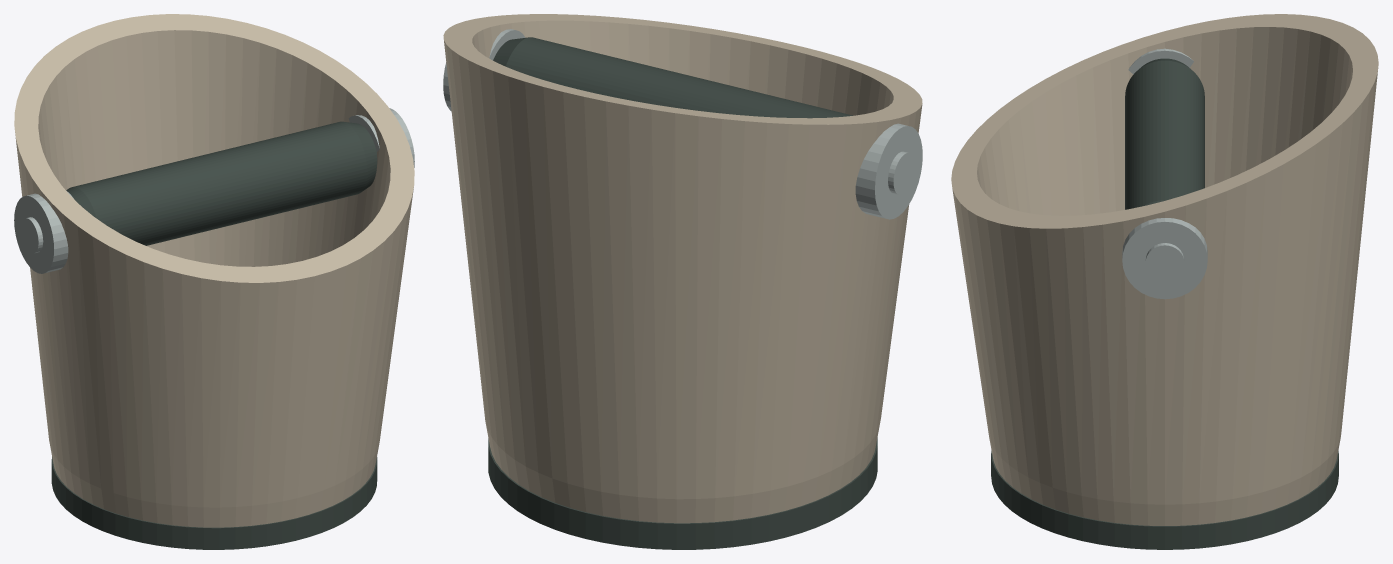
3 renders of one model, left to right at view 1: azimuth 30°, elevation 25°; view 2: azimuth 150°, elevation 25°; view 3: azimuth 270°, elevation 25°, orthographic. The views are drawn at different scales.
Visible parts, largest first — view 1: WholeHighTaperedBinWithTrueSlopingOpenMouthAndFloor, WholeThickPaddedCrossbarSleeve, WholeAnnularGroundPad, WholeCrossbarEndSeatLeft, WholeTransverseFixedAxle, WholeCrossbarEndSeatRight; view 2: WholeHighTaperedBinWithTrueSlopingOpenMouthAndFloor, WholeAnnularGroundPad, WholeThickPaddedCrossbarSleeve, WholeCrossbarEndSeatLeft, WholeTransverseFixedAxle, WholeCrossbarEndSeatRight; view 3: WholeHighTaperedBinWithTrueSlopingOpenMouthAndFloor, WholeThickPaddedCrossbarSleeve, WholeAnnularGroundPad, WholeCrossbarEndSeatRight, WholeTransverseFixedAxle, WholeCrossbarEndSeatLeft.
Part boxes in pixels (box(x1,y1,x2,y2)): WholeHighTaperedBinWithTrueSlopingOpenMouthAndFloor: box(14, 14, 414, 527); WholeThickPaddedCrossbarSleeve: box(66, 121, 377, 245); WholeAnnularGroundPad: box(51, 457, 377, 549); WholeCrossbarEndSeatLeft: box(14, 190, 73, 273); WholeTransverseFixedAxle: box(20, 217, 43, 253); WholeCrossbarEndSeatRight: box(348, 108, 414, 167); WholeHighTaperedBinWithTrueSlopingOpenMouthAndFloor: box(443, 14, 922, 523); WholeAnnularGroundPad: box(488, 437, 877, 549); WholeThickPaddedCrossbarSleeve: box(493, 37, 852, 118); WholeCrossbarEndSeatLeft: box(855, 123, 922, 219); WholeTransverseFixedAxle: box(888, 151, 915, 195); WholeCrossbarEndSeatRight: box(443, 29, 525, 111); WholeHighTaperedBinWithTrueSlopingOpenMouthAndFloor: box(951, 14, 1378, 525); WholeThickPaddedCrossbarSleeve: box(1125, 58, 1204, 209); WholeAnnularGroundPad: box(991, 450, 1338, 549); WholeCrossbarEndSeatRight: box(1122, 218, 1207, 299); WholeTransverseFixedAxle: box(1145, 243, 1184, 280); WholeCrossbarEndSeatLeft: box(1128, 48, 1193, 74).
Bounding box in the file's own units: 0.16 × 0.16 × 0.15.
